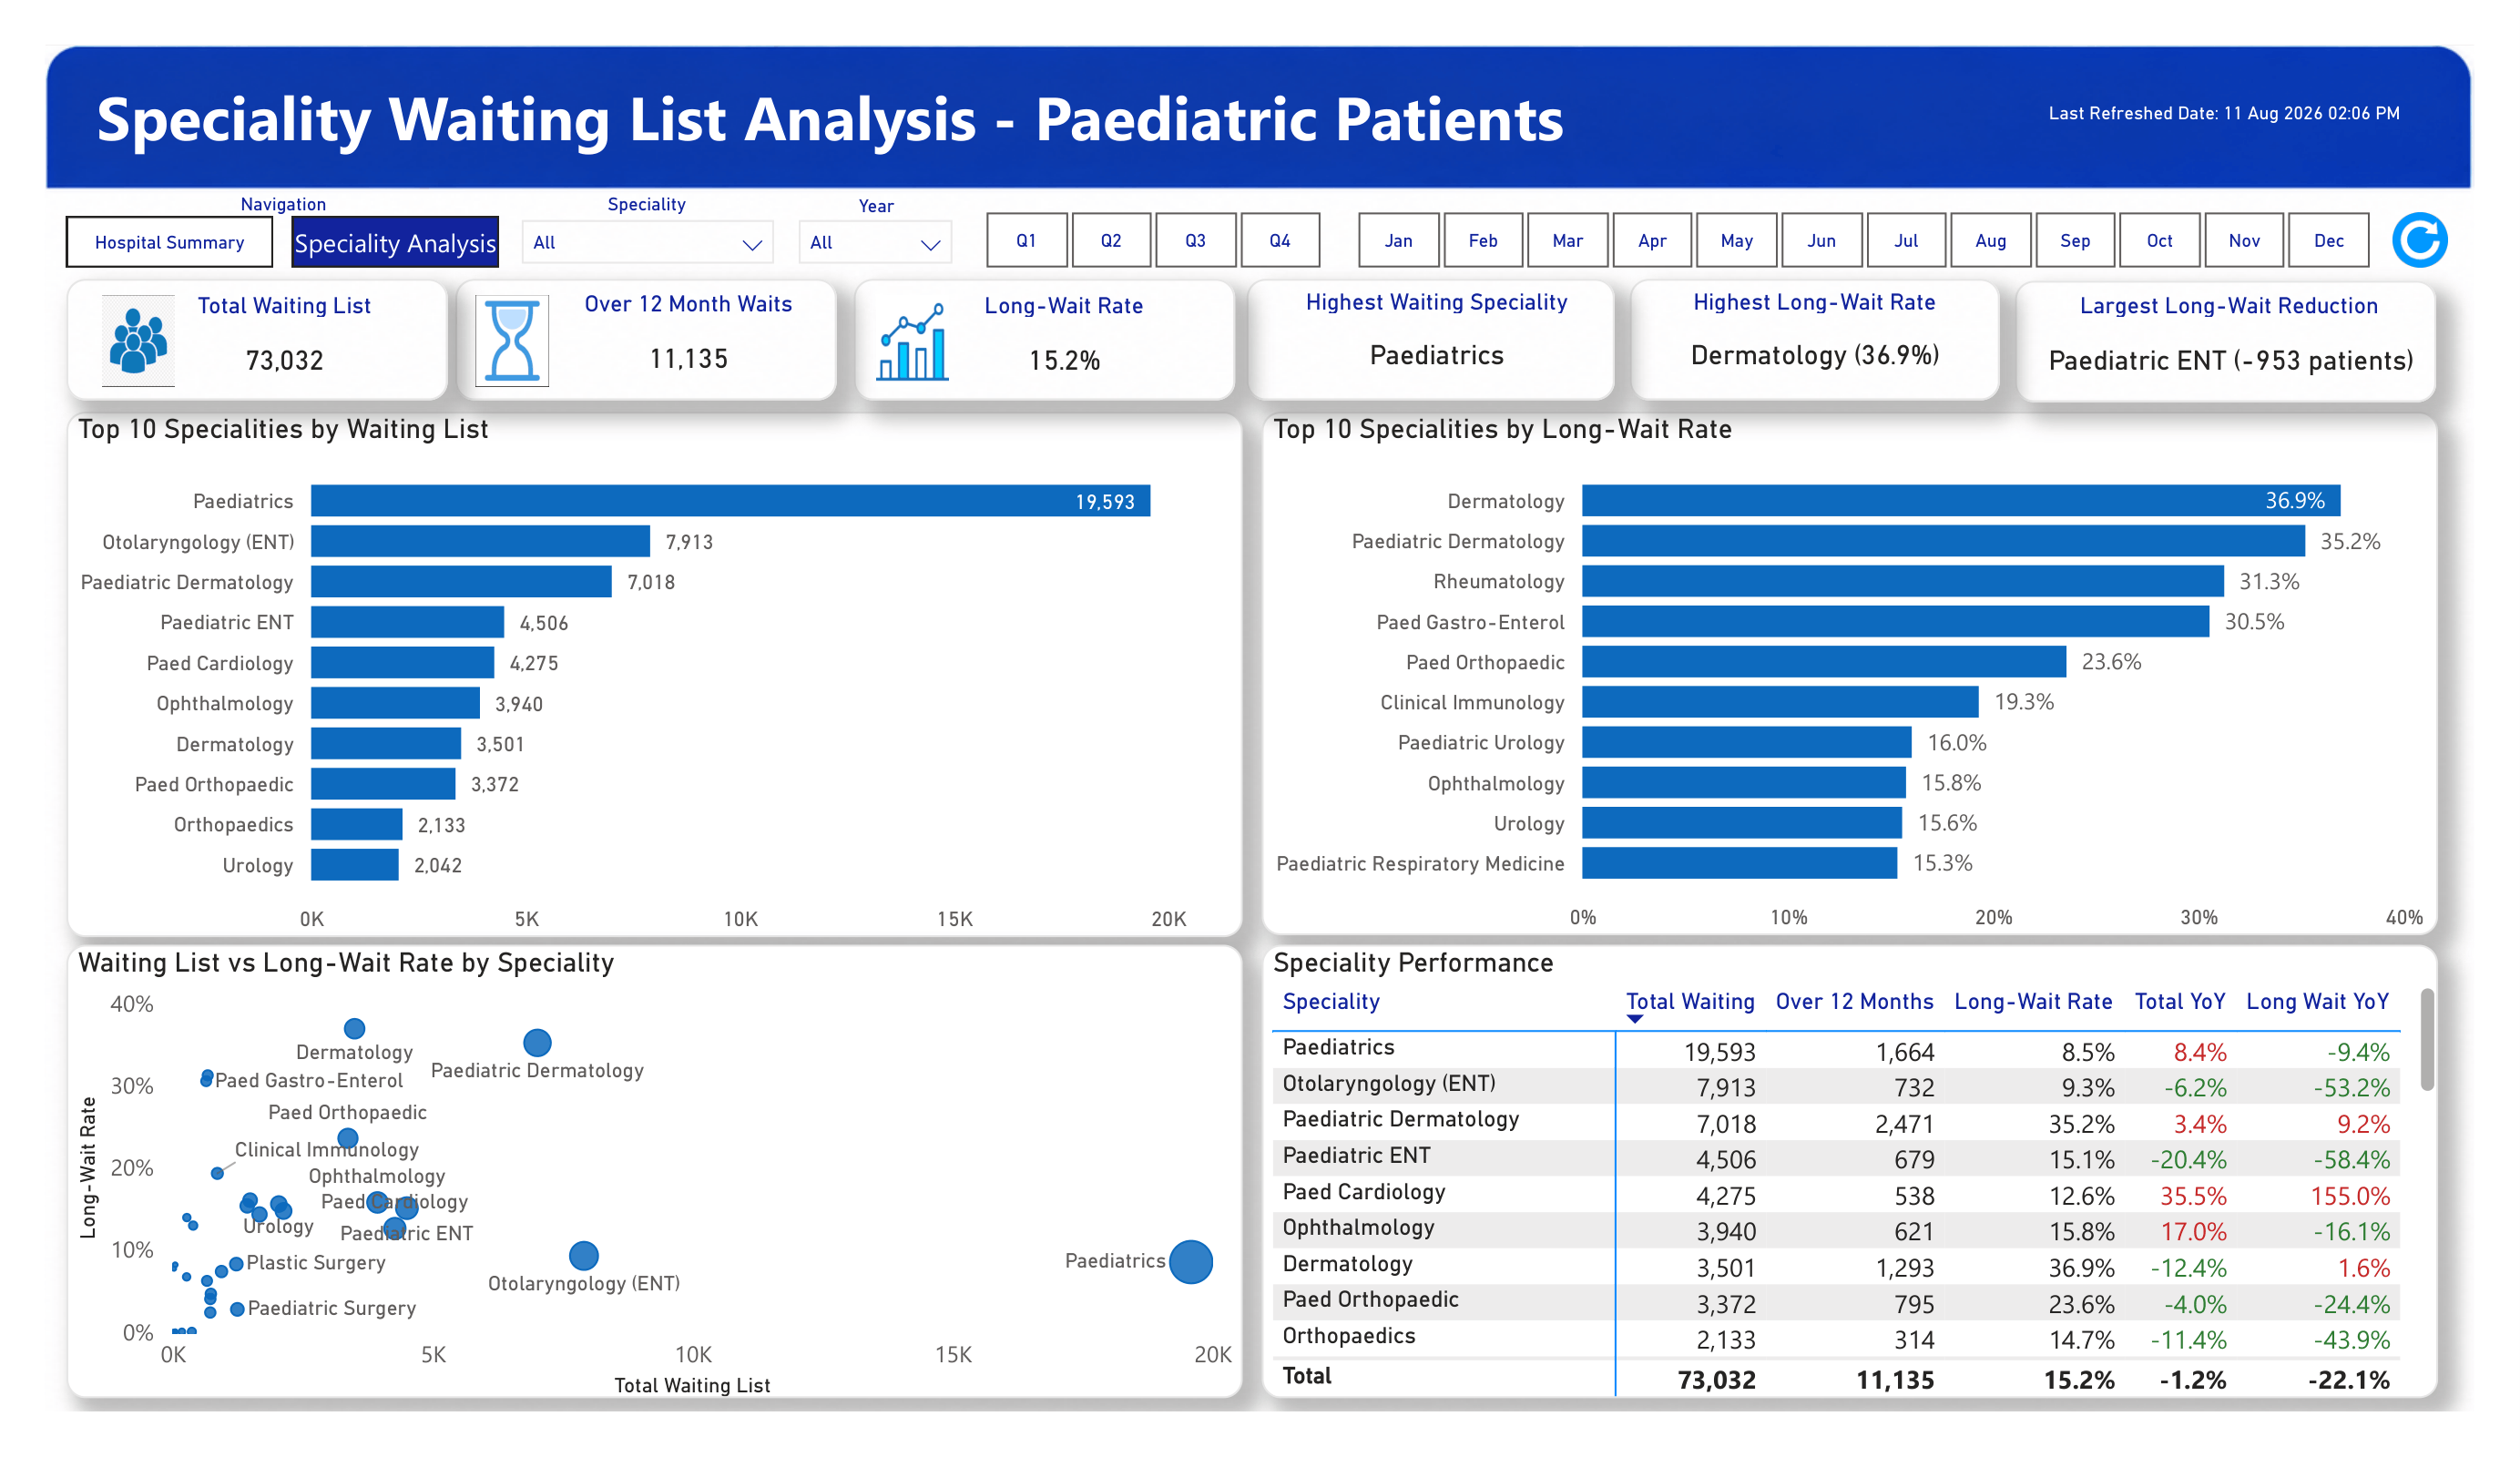

This screenshot's page, from the dashboard's own definition file:
{"tool":"powerbi","page":{"name":"Speciality Analysis","canvas":[1280,720],"ordinal":1},"visuals":[{"type":"textbox","box":[22.4,10.2,789.4,56.1],"z":0},{"type":"image","box":[1164.5,12.7,96.4,50],"z":1000},{"type":"card","fields":{"Values":["Measure.Last Refreshed Date"]},"box":[957.3,31.8,193.6,30.9],"z":2000},{"type":"image","box":[1231.6,87.8,39,29.3],"z":3000},{"type":"slicer","fields":{"Values":["DimDate.MonthName"]},"box":[671.1,86.5,572.5,32.3],"z":4000},{"type":"slicer","fields":{"Values":["DimDate.Quarter"]},"box":[474.6,86.5,216.7,32.3],"z":5000},{"type":"slicer","fields":{"Values":["DimDate.Year"]},"box":[392.2,86.7,91.1,32.2],"z":6000},{"type":"textbox","box":[412.7,69,50,29.1],"z":7000},{"type":"slicer","fields":{"Values":["Speciality_Child.Speciality"]},"box":[245.6,86.7,143.3,31.1],"z":8000},{"type":"textbox","box":[260.5,67.7,113.2,29.1],"z":9000},{"type":"pageNavigator","box":[11.1,90,228.9,26.7],"z":10000},{"type":"clusteredBarChart","title":"Top 10 Specialities by Waiting List","fields":{"Category":["Speciality_Child.Speciality"],"Y":["Measure.Speciality Selected Total Waiting"]},"box":[11.3,193.3,620,276.7],"z":11000},{"type":"clusteredBarChart","title":"Top 10 Specialities by Long-Wait Rate","fields":{"Category":["Speciality_Child.Speciality"],"Y":["Measure.Speciality Selected % Waiting Over 12 Months"]},"box":[641,193,620,276],"z":12000},{"type":"scatterChart","title":"Waiting List vs Long-Wait Rate by Speciality","fields":{"X":["Measure.Speciality Selected Total Waiting"],"Category":["Speciality_Child.Speciality"],"Size":["Measure.Speciality Selected Total Waiting"],"Y":["Measure.Speciality Selected % Waiting Over 12 Months"]},"box":[11.3,474,620,238.7],"z":13000},{"type":"pivotTable","title":"Speciality Performance","fields":{"Rows":["Speciality_Child.Speciality"],"Values":["Measure.Speciality Selected Total Waiting","Measure.Speciality Selected Waiting Over 12 Months","Measure.Speciality Selected % Waiting Over 12 Months","Measure.Speciality YoY % Change Total Waiting","Measure.Speciality YoY % Change Waiting Over 12 Months"]},"box":[641.3,474,620,238.7],"z":14000},{"type":"shape","box":[1038,124,222,64],"z":15000},{"type":"cardVisual","title":"Largest Long-Wait Reduction","fields":{"Data":["Measure.Speciality Largest Reduction in Long Waits"]},"box":[1042,130,218,56],"z":16000},{"type":"cardVisual","title":"Highest Long-Wait Rate","fields":{"Data":["Measure.Speciality Highest Long-Wait Rate"]},"box":[852,128,161,55],"z":17000},{"type":"cardVisual","title":"Highest Waiting Speciality","fields":{"Data":["Measure.Speciality Highest Waiting Specialty"]},"box":[662,128,143,55],"z":18000},{"type":"cardVisual","title":"Long-Wait Rate","fields":{"Data":["Measure.Speciality Selected % Waiting Over 12 Months"]},"box":[462.5,130,148.3,55.8],"z":19000},{"type":"shape","box":[835,123,195,64],"z":20000},{"type":"shape","box":[633,123,194,64],"z":21000},{"type":"shape","box":[425.8,123.3,200.8,64],"z":22000},{"type":"shape","box":[215.8,123.3,200.8,64],"z":23000},{"type":"shape","box":[10.8,123.3,200.8,64],"z":24000},{"type":"image","box":[437.5,132,38.3,48.3],"z":25000},{"type":"image","box":[30,132,38.3,48.3],"z":26000},{"type":"image","box":[226.7,132,38.3,48.3],"z":27000},{"type":"cardVisual","title":"Total Waiting List","fields":{"Data":["Measure.Speciality Selected Total Waiting"]},"box":[51.7,130,148.3,55.8],"z":28000},{"type":"cardVisual","title":"Over 12 Month Waits","fields":{"Data":["Measure.Speciality Selected Waiting Over 12 Months"]},"box":[264.5,129.1,148.2,55.5],"z":29000},{"type":"textbox","box":[73.2,67.7,104.5,27.7],"z":30000}]}

Visuals, with their boxes on the page's 1280x720 design canvas (x1, y1, x2, y2). These are canvas units, not pixel positions in the 2520x1457 screenshot, which may show the page scaled, cropped or inside an application window:
textbox: rect(22, 10, 812, 66)
image: rect(1164, 13, 1261, 63)
card - Measure.Last Refreshed Date: rect(957, 32, 1151, 63)
image: rect(1232, 88, 1271, 117)
slicer - DimDate.MonthName: rect(671, 86, 1244, 119)
slicer - DimDate.Quarter: rect(475, 86, 691, 119)
slicer - DimDate.Year: rect(392, 87, 483, 119)
textbox: rect(413, 69, 463, 98)
slicer - Speciality_Child.Speciality: rect(246, 87, 389, 118)
textbox: rect(260, 68, 374, 97)
pageNavigator: rect(11, 90, 240, 117)
"Top 10 Specialities by Waiting List" clusteredBarChart: rect(11, 193, 631, 470)
"Top 10 Specialities by Long-Wait Rate" clusteredBarChart: rect(641, 193, 1261, 469)
"Waiting List vs Long-Wait Rate by Speciality" scatterChart: rect(11, 474, 631, 713)
"Speciality Performance" pivotTable: rect(641, 474, 1261, 713)
shape: rect(1038, 124, 1260, 188)
"Largest Long-Wait Reduction" cardVisual: rect(1042, 130, 1260, 186)
"Highest Long-Wait Rate" cardVisual: rect(852, 128, 1013, 183)
"Highest Waiting Speciality" cardVisual: rect(662, 128, 805, 183)
"Long-Wait Rate" cardVisual: rect(462, 130, 611, 186)
shape: rect(835, 123, 1030, 187)
shape: rect(633, 123, 827, 187)
shape: rect(426, 123, 627, 187)
shape: rect(216, 123, 417, 187)
shape: rect(11, 123, 212, 187)
image: rect(438, 132, 476, 180)
image: rect(30, 132, 68, 180)
image: rect(227, 132, 265, 180)
"Total Waiting List" cardVisual: rect(52, 130, 200, 186)
"Over 12 Month Waits" cardVisual: rect(264, 129, 413, 185)
textbox: rect(73, 68, 178, 95)
